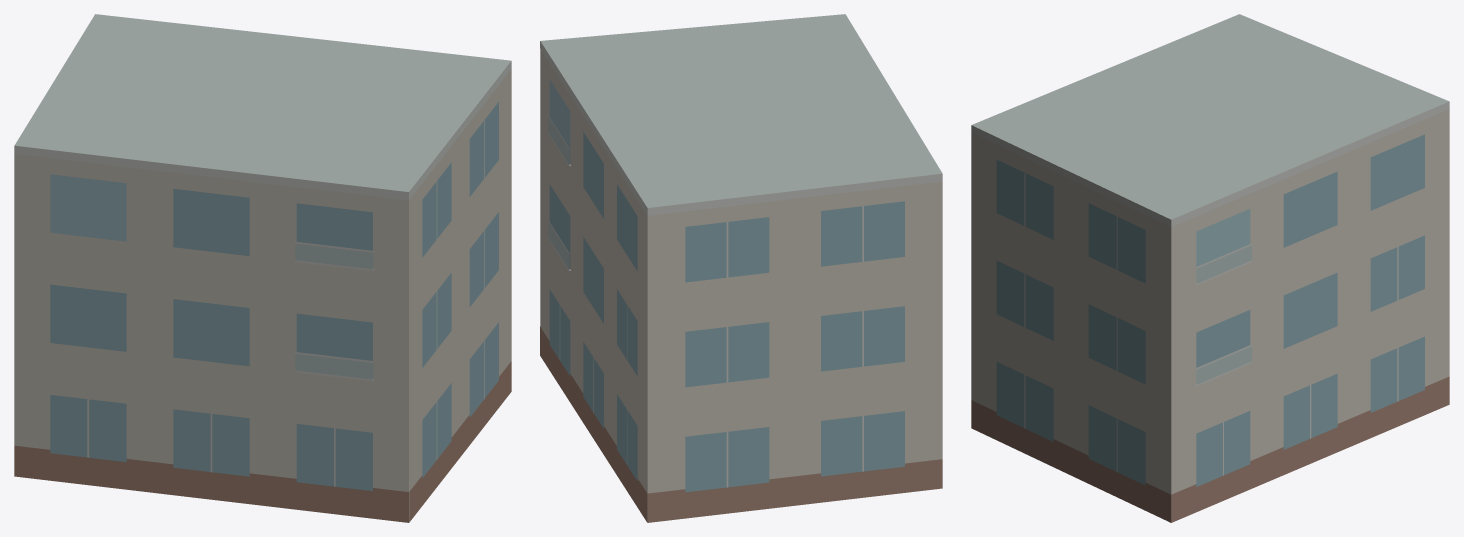
Rendered from survey-upis-32888207.glb.
3 views of the same model, side by side, from view 1: azimuth 30°, elevation 25°; view 2: azimuth 150°, elevation 25°; view 3: azimuth 270°, elevation 25° (orthographic). The views are drawn at different scales.
Visible parts, largest first — view 1: survey-upis-32888207.tmp; view 2: survey-upis-32888207.tmp; view 3: survey-upis-32888207.tmp.
Boxes of the visible parts, left/top/right/bottom form: survey-upis-32888207.tmp: left=14, top=14, right=511, bottom=522; survey-upis-32888207.tmp: left=540, top=14, right=942, bottom=522; survey-upis-32888207.tmp: left=971, top=14, right=1449, bottom=522.
Size of the model in its own units: 14.42 by 9.9 by 14.16.
